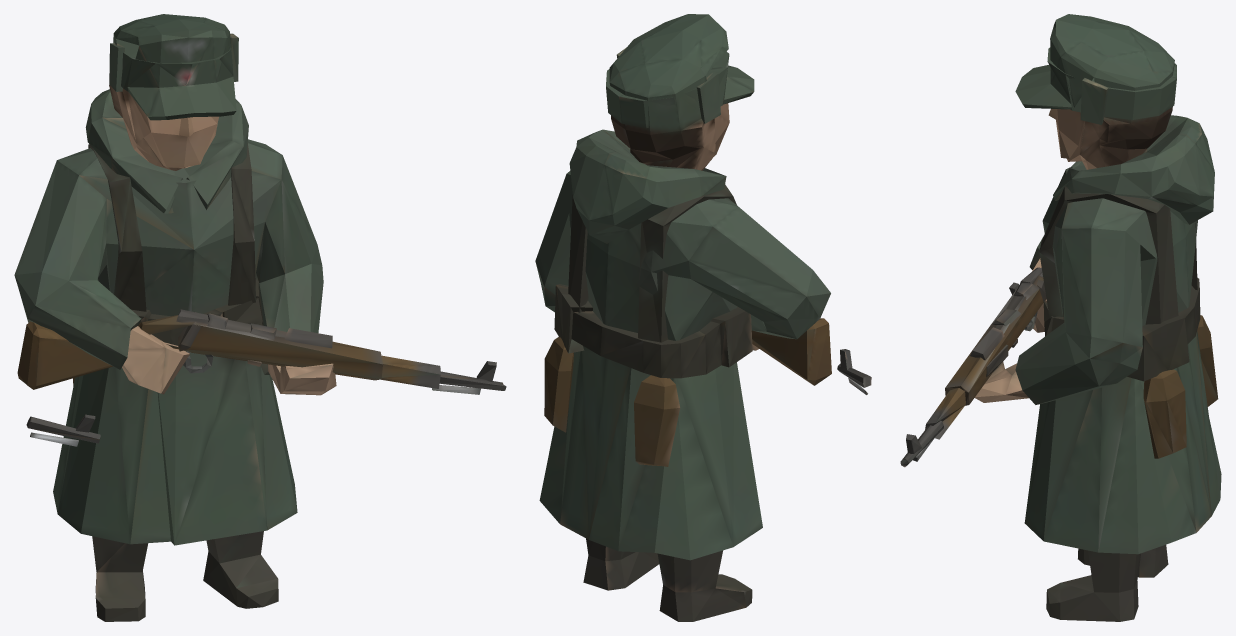
Rendered from bulge_german_inf_1.glb.
3 renders of one model, left to right at view 1: azimuth 30°, elevation 25°; view 2: azimuth 150°, elevation 25°; view 3: azimuth 270°, elevation 25°, orthographic. The views are drawn at different scales.
Parts seen in each view (by area): view 1: bulge_german_inf.glb; view 2: bulge_german_inf.glb; view 3: bulge_german_inf.glb.
Boxes of the visible parts, x1=… form: bulge_german_inf.glb: x1=14, y1=14, x2=506, y2=621; bulge_german_inf.glb: x1=535, y1=14, x2=871, y2=621; bulge_german_inf.glb: x1=900, y1=14, x2=1221, y2=621.
Size of the model in its own units: 0.2304 by 0.324 by 0.169.
1 material, 1 textured.
